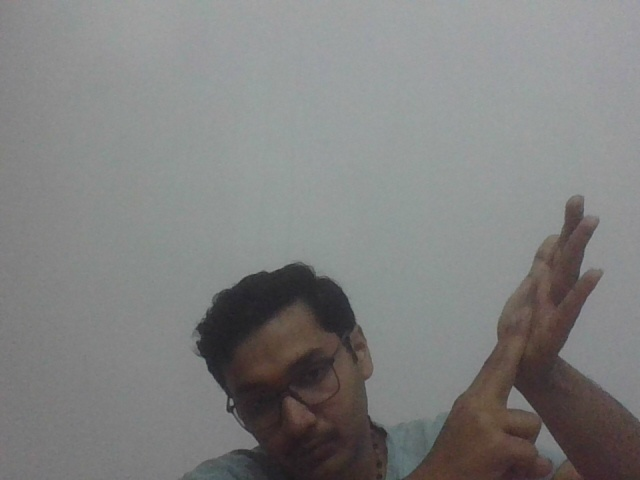N: (453, 190, 614, 475)
